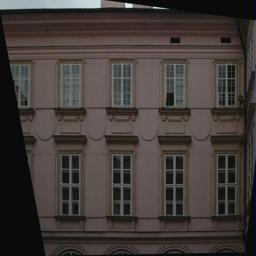building: (0, 9, 244, 256)
